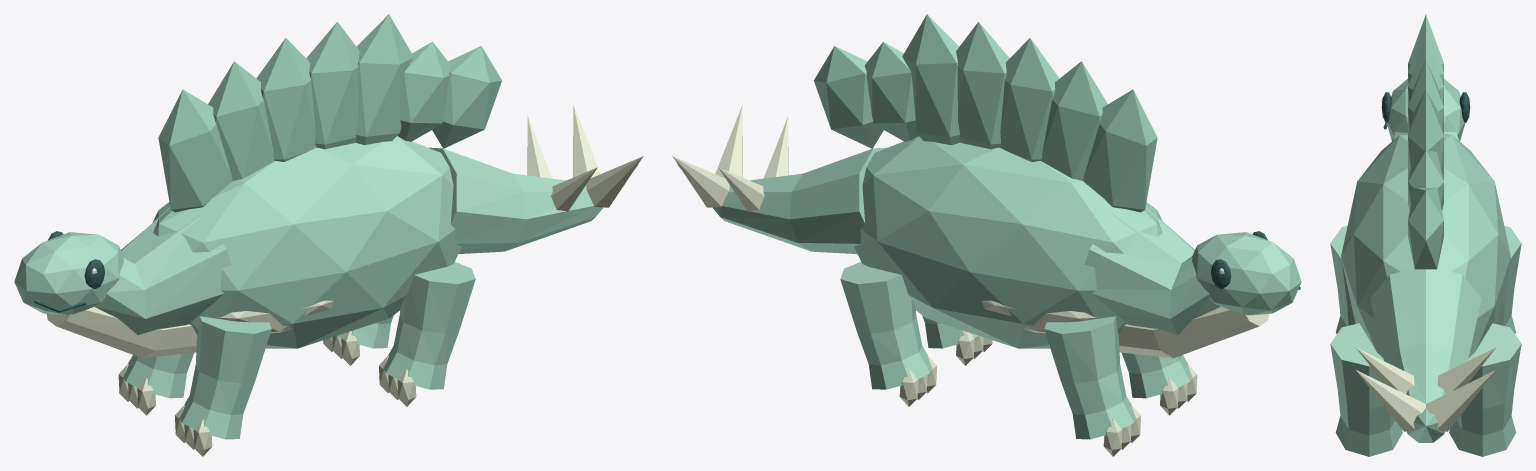
Rendered from stegosaurus.glb.
3 renders of one model, left to right at view 1: azimuth 30°, elevation 25°; view 2: azimuth 150°, elevation 25°; view 3: azimuth 270°, elevation 25°, orthographic.
Parts seen in each view (by area): view 1: Body, Tail, Neck, Rounded leg, Rounded leg.002, Head, Dorsal plate, Dorsal plate.004, Dorsal plate.003, Dorsal plate.002, Dorsal plate.001, Dorsal plate.006 (+9 smaller); view 2: Body, Tail, Neck, Rounded leg.001, Rounded leg.003, Head, Dorsal plate, Dorsal plate.004, Dorsal plate.003, Dorsal plate.002, Dorsal plate.001, Dorsal plate.006 (+9 smaller); view 3: Body, Tail, Rounded leg.002, Rounded leg.003, Dorsal plate.006, Dorsal plate.004, Head, Tail spike.002, Tail spike.003, Dorsal plate.005, Rounded leg, Rounded leg.001 (+8 smaller).
Boxes of the visible parts, left/top/right/bottom form: Body: left=152, top=136, right=461, bottom=348; Tail: left=428, top=147, right=638, bottom=253; Neck: left=94, top=207, right=231, bottom=334; Rounded leg: left=179, top=316, right=271, bottom=439; Rounded leg.002: left=383, top=262, right=475, bottom=389; Head: left=14, top=232, right=124, bottom=315; Dorsal plate: left=158, top=89, right=232, bottom=212; Dorsal plate.004: left=355, top=14, right=413, bottom=145; Dorsal plate.003: left=306, top=22, right=359, bottom=149; Dorsal plate.002: left=256, top=38, right=316, bottom=161; Dorsal plate.001: left=208, top=61, right=274, bottom=180; Dorsal plate.006: left=432, top=46, right=502, bottom=148; Body: left=854, top=136, right=1162, bottom=348; Tail: left=677, top=147, right=887, bottom=253; Neck: left=1084, top=207, right=1220, bottom=334; Rounded leg.001: left=1044, top=316, right=1136, bottom=439; Rounded leg.003: left=840, top=262, right=932, bottom=389; Head: left=1191, top=232, right=1301, bottom=315; Dorsal plate: left=1083, top=89, right=1157, bottom=212; Dorsal plate.004: left=902, top=14, right=960, bottom=145; Dorsal plate.003: left=956, top=22, right=1009, bottom=149; Dorsal plate.002: left=999, top=38, right=1059, bottom=161; Dorsal plate.001: left=1041, top=61, right=1107, bottom=180; Dorsal plate.006: left=813, top=46, right=883, bottom=148; Body: left=1341, top=134, right=1510, bottom=358; Tail: left=1370, top=268, right=1481, bottom=442; Rounded leg.002: left=1330, top=323, right=1402, bottom=456; Rounded leg.003: left=1449, top=323, right=1521, bottom=456; Dorsal plate.006: left=1408, top=187, right=1443, bottom=269; Dorsal plate.004: left=1408, top=91, right=1443, bottom=180; Head: left=1386, top=79, right=1465, bottom=140; Tail spike.002: left=1355, top=369, right=1425, bottom=431; Tail spike.003: left=1426, top=369, right=1496, bottom=431; Dorsal plate.005: left=1408, top=150, right=1443, bottom=210; Rounded leg: left=1330, top=226, right=1355, bottom=333; Rounded leg.001: left=1496, top=226, right=1521, bottom=333.
Size of the model in its own units: 4.06 by 2.3 by 1.08.
